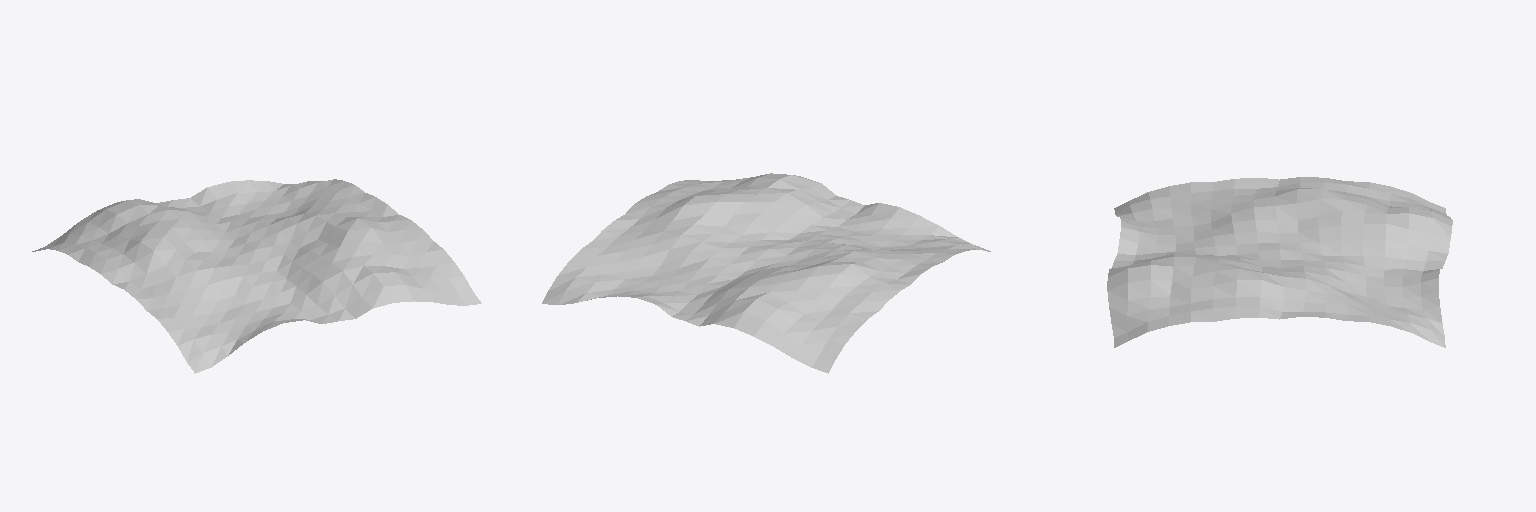
The model's file is water_000095.obj.
3 renders of one model, left to right at view 1: azimuth 30°, elevation 25°; view 2: azimuth 150°, elevation 25°; view 3: azimuth 270°, elevation 25°, orthographic.
Visible parts, largest first — view 1: Plan.003_Plan.001; view 2: Plan.003_Plan.001; view 3: Plan.003_Plan.001.
Part boxes in pixels (left/top/right/bottom): Plan.003_Plan.001: left=32, top=179, right=481, bottom=373; Plan.003_Plan.001: left=542, top=173, right=990, bottom=373; Plan.003_Plan.001: left=1107, top=177, right=1452, bottom=347.
Bounding box in the file's own units: 60872 × 8921 × 62885.